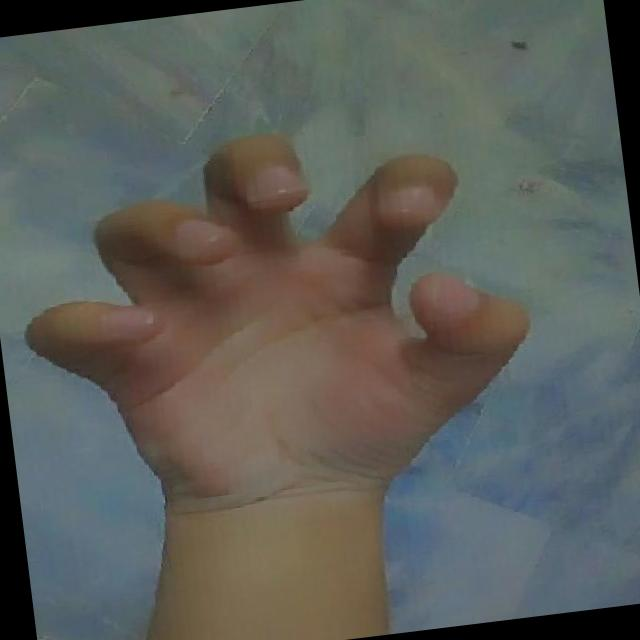Nail: (174, 219, 238, 258), (427, 277, 479, 314), (251, 162, 306, 194), (99, 305, 153, 336), (390, 185, 437, 209)
